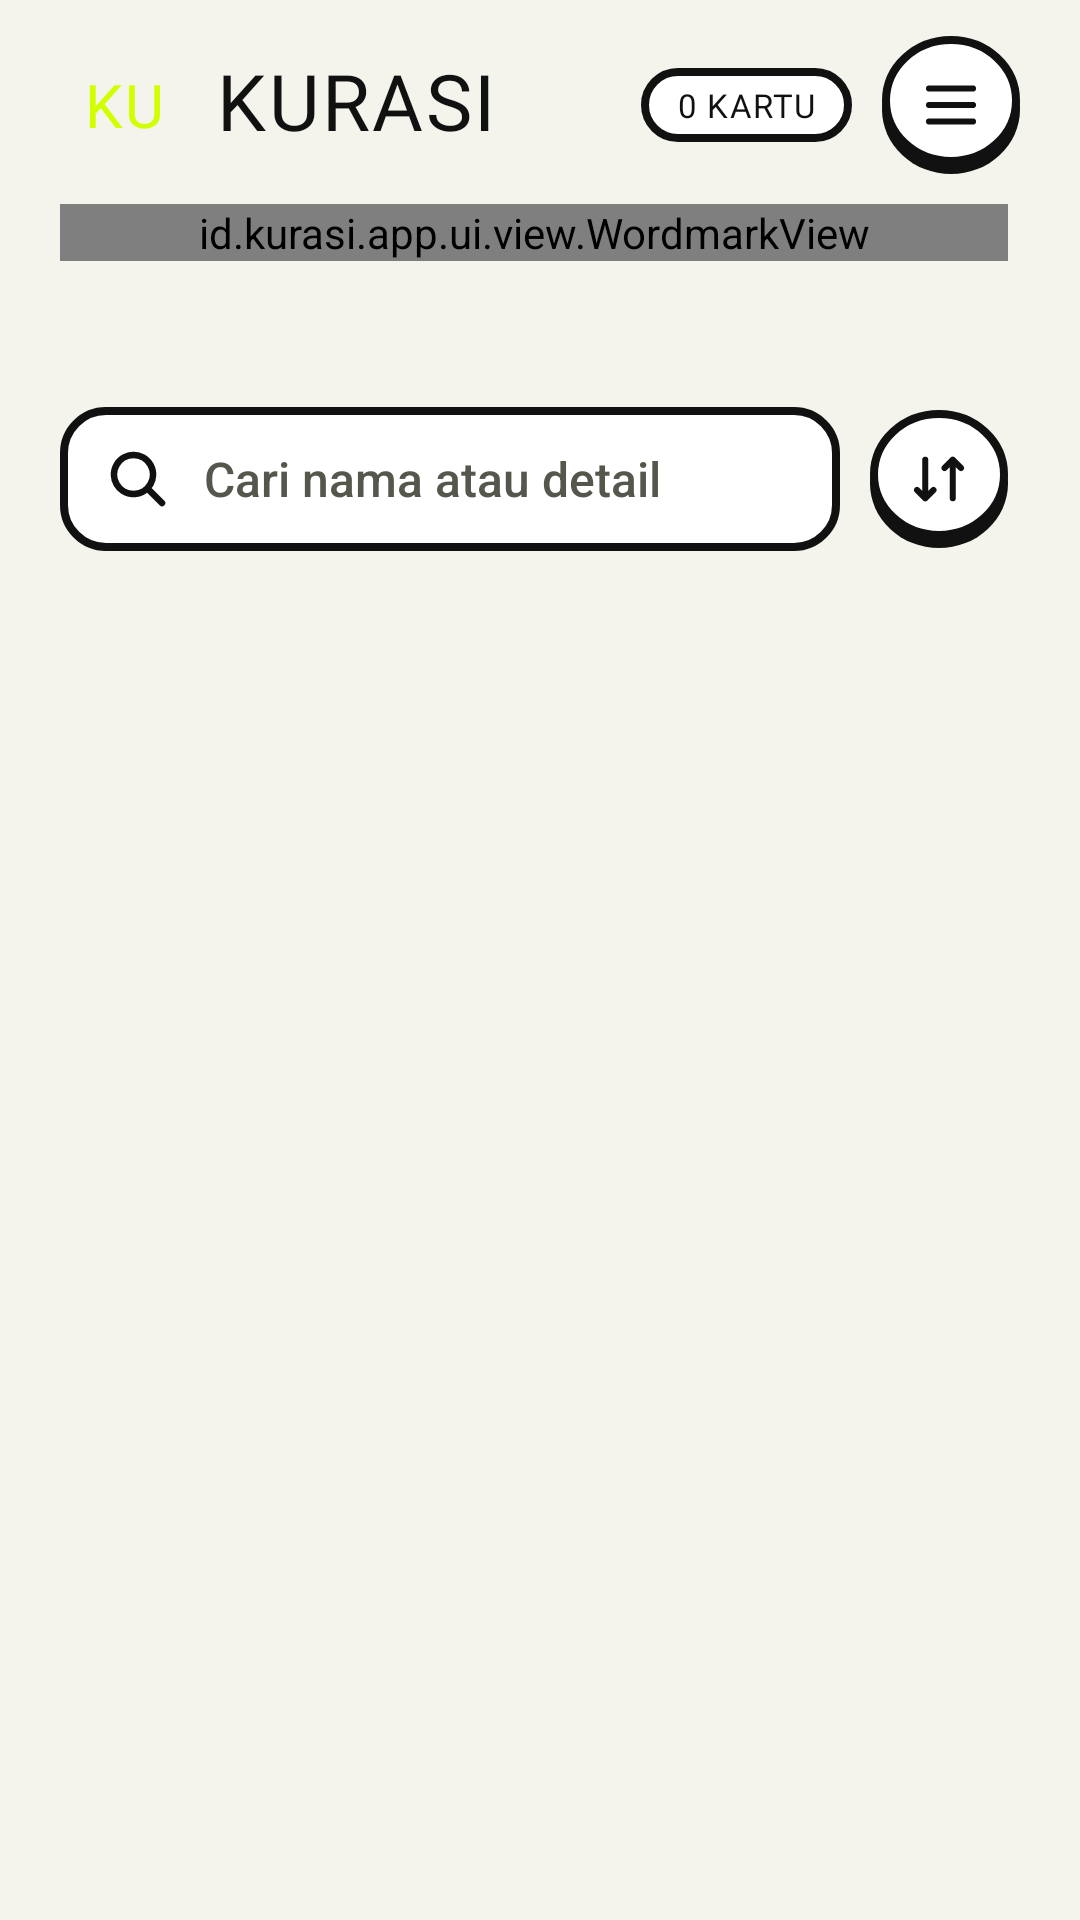

Icons on this 1080 x 1920 Android screen, each with the point to tap as (x,y):
Menu: (951,105)
Urutkan: (939,479)
